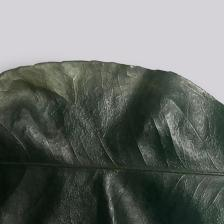healthy: (0, 65, 224, 223)
